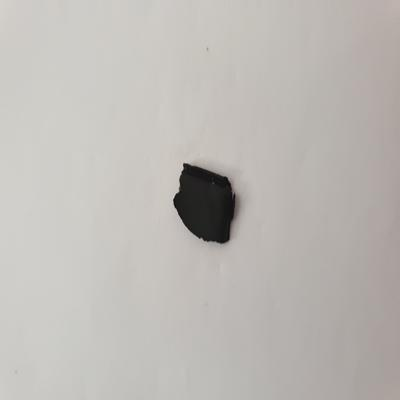plastic: (168, 155, 247, 248)
